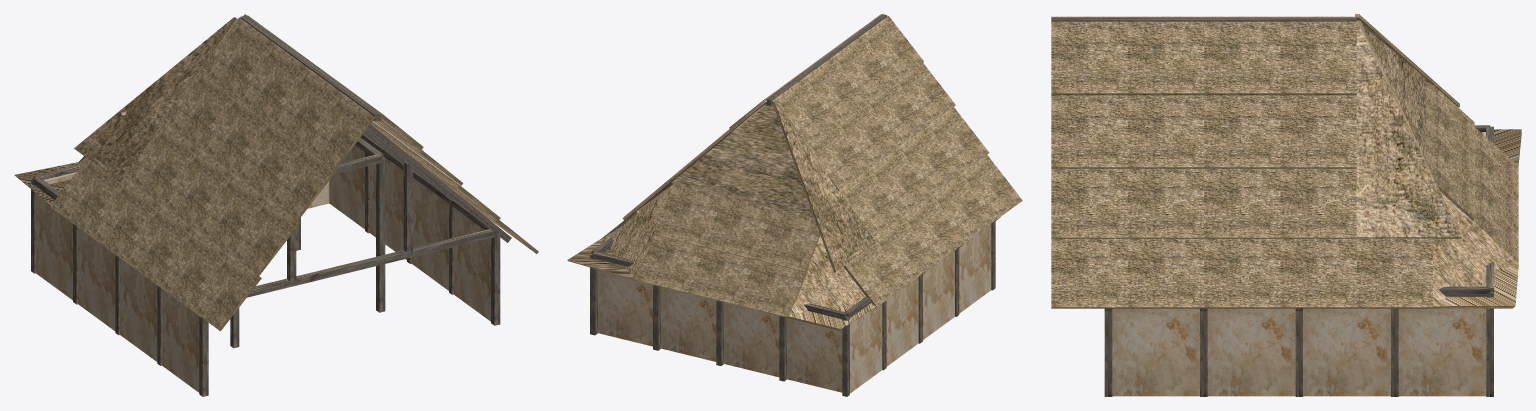
The model's file is forge_home_1.glb.
3 views of the same model, side by side, from view 1: azimuth 30°, elevation 25°; view 2: azimuth 150°, elevation 25°; view 3: azimuth 270°, elevation 25° (orthographic). The views are drawn at different scales.
Parts seen in each view (by area): view 1: Cube.017; view 2: Cube.017; view 3: Cube.017.
Part boxes in pixels (<box>): Cube.017: <box>14,14,538,396</box>; Cube.017: <box>567,14,1022,396</box>; Cube.017: <box>1051,14,1521,396</box>.
Bounding box in the file's own units: 22.12 × 17.23 × 24.66.
9 materials, 9 textured.
